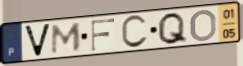C: (120, 13, 150, 50)
F: (90, 17, 116, 53)
M: (49, 21, 83, 56)
O: (189, 8, 218, 43)
Q: (156, 11, 190, 46)
V: (22, 23, 53, 59)
